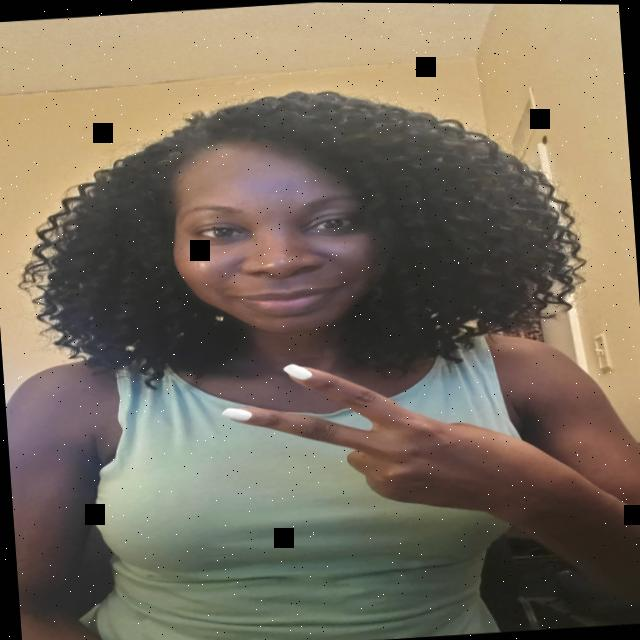Scissors: (216, 342, 554, 521)
